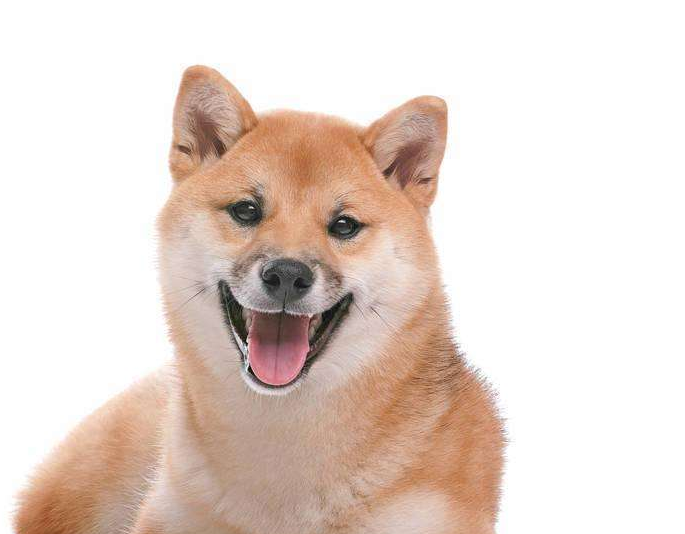nose: (255, 251, 324, 302)
